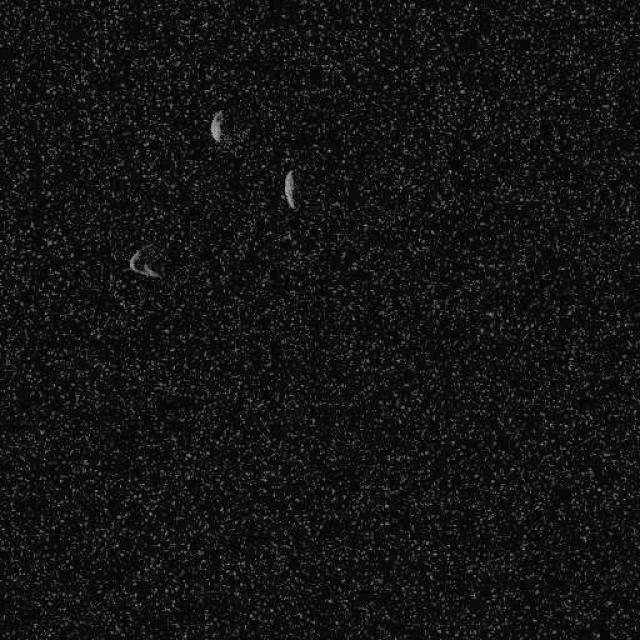D2: (126, 245, 162, 279), (282, 168, 296, 210), (209, 109, 225, 142)
